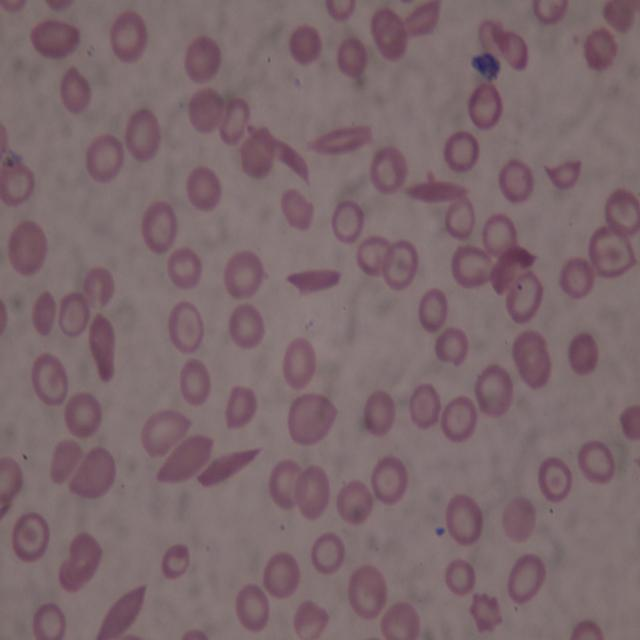Crystal: (87, 313, 116, 382)
Normal: (444, 494, 486, 548), (223, 251, 266, 300), (109, 10, 148, 61), (86, 134, 125, 184), (509, 552, 545, 605), (282, 338, 318, 388), (228, 303, 266, 350), (442, 394, 478, 442), (126, 111, 160, 161), (64, 391, 100, 437), (444, 128, 478, 176), (578, 442, 614, 487), (185, 167, 222, 210), (364, 387, 396, 436), (178, 359, 210, 406), (309, 532, 345, 573), (236, 586, 268, 631), (500, 160, 534, 202), (558, 256, 594, 295), (34, 602, 69, 640), (418, 288, 447, 332), (333, 201, 363, 243), (326, 0, 358, 20)
Others: (58, 533, 105, 593), (289, 388, 338, 442), (140, 409, 194, 456), (348, 560, 388, 623), (69, 447, 116, 500), (475, 362, 514, 419), (138, 198, 176, 256), (7, 220, 45, 277), (34, 350, 70, 404), (602, 186, 640, 237), (28, 20, 80, 57), (238, 125, 274, 178), (295, 467, 330, 521), (371, 9, 406, 62), (335, 478, 371, 529), (371, 457, 410, 504), (183, 37, 221, 83), (371, 146, 407, 194), (49, 438, 85, 486), (492, 22, 527, 70), (466, 588, 504, 632), (467, 87, 502, 134), (58, 66, 92, 114), (506, 276, 540, 324), (188, 88, 223, 134), (218, 94, 249, 145), (501, 496, 535, 542), (382, 601, 423, 639), (1, 162, 37, 205), (583, 27, 619, 70), (223, 381, 255, 429), (270, 461, 302, 509), (82, 265, 114, 312), (281, 186, 313, 233), (483, 213, 517, 256), (434, 328, 470, 368), (410, 382, 440, 430), (169, 242, 201, 286), (568, 332, 600, 376), (292, 597, 329, 635), (356, 237, 392, 276), (511, 328, 546, 368), (265, 554, 296, 598), (337, 35, 369, 76), (520, 345, 550, 388), (30, 290, 58, 336), (289, 24, 318, 66), (445, 201, 477, 239), (58, 292, 86, 335), (603, 2, 638, 36), (162, 540, 190, 582), (68, 534, 101, 568), (446, 559, 477, 594), (1, 457, 24, 502), (478, 17, 504, 53), (474, 45, 499, 82), (534, 2, 570, 24), (621, 403, 640, 443), (0, 486, 23, 518), (568, 619, 606, 638), (179, 626, 211, 640), (0, 121, 13, 155), (1, 0, 30, 15), (42, 0, 76, 10), (0, 300, 10, 332)
Sickle: (243, 118, 311, 186), (194, 442, 266, 490), (94, 581, 150, 640), (156, 433, 214, 487), (488, 246, 538, 298), (308, 124, 374, 156), (451, 242, 488, 293), (389, 8, 444, 40), (404, 179, 471, 205), (282, 267, 340, 293), (544, 154, 584, 190)
Target: (589, 224, 638, 279), (166, 300, 206, 357), (10, 510, 50, 565), (382, 238, 418, 289), (536, 456, 574, 501)
